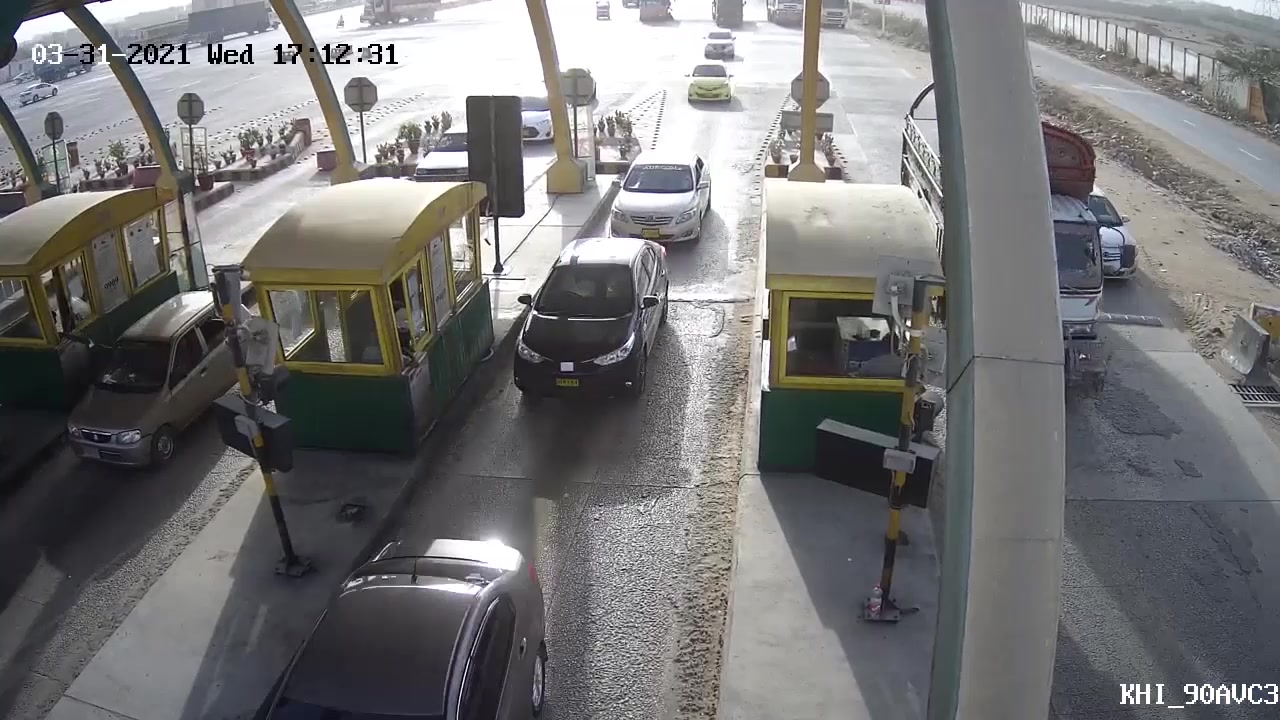F1: (509, 231, 674, 425), (606, 146, 708, 248)
